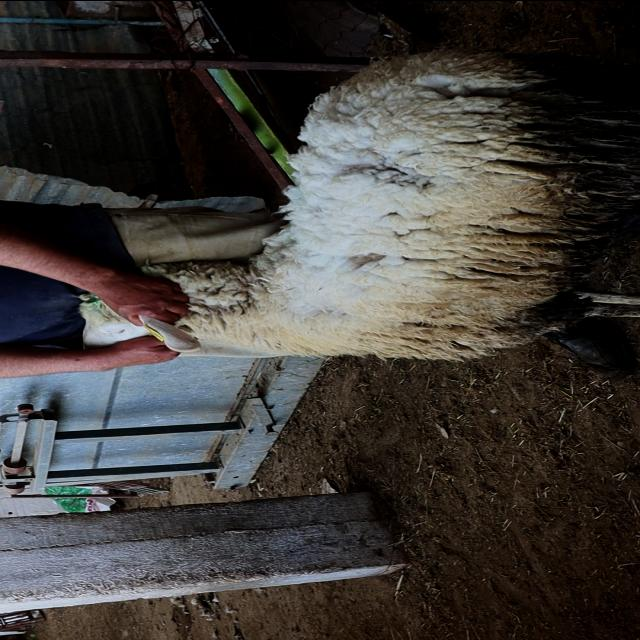Score_4: (79, 51, 639, 359)
